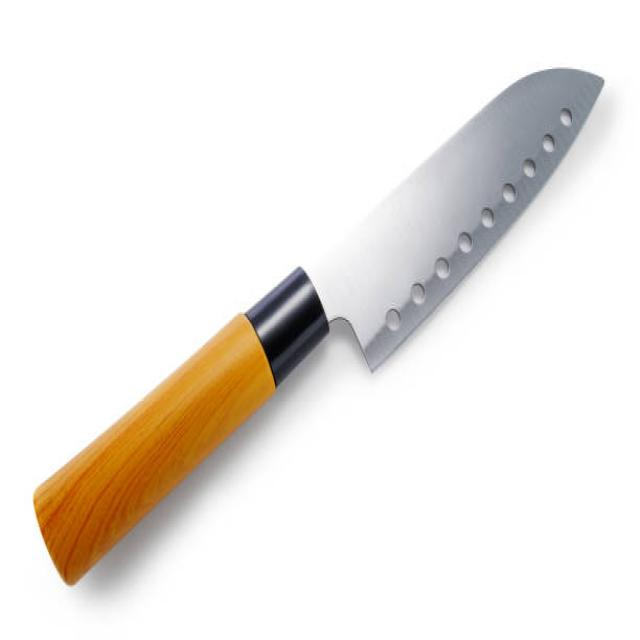knife: (35, 57, 612, 600)
